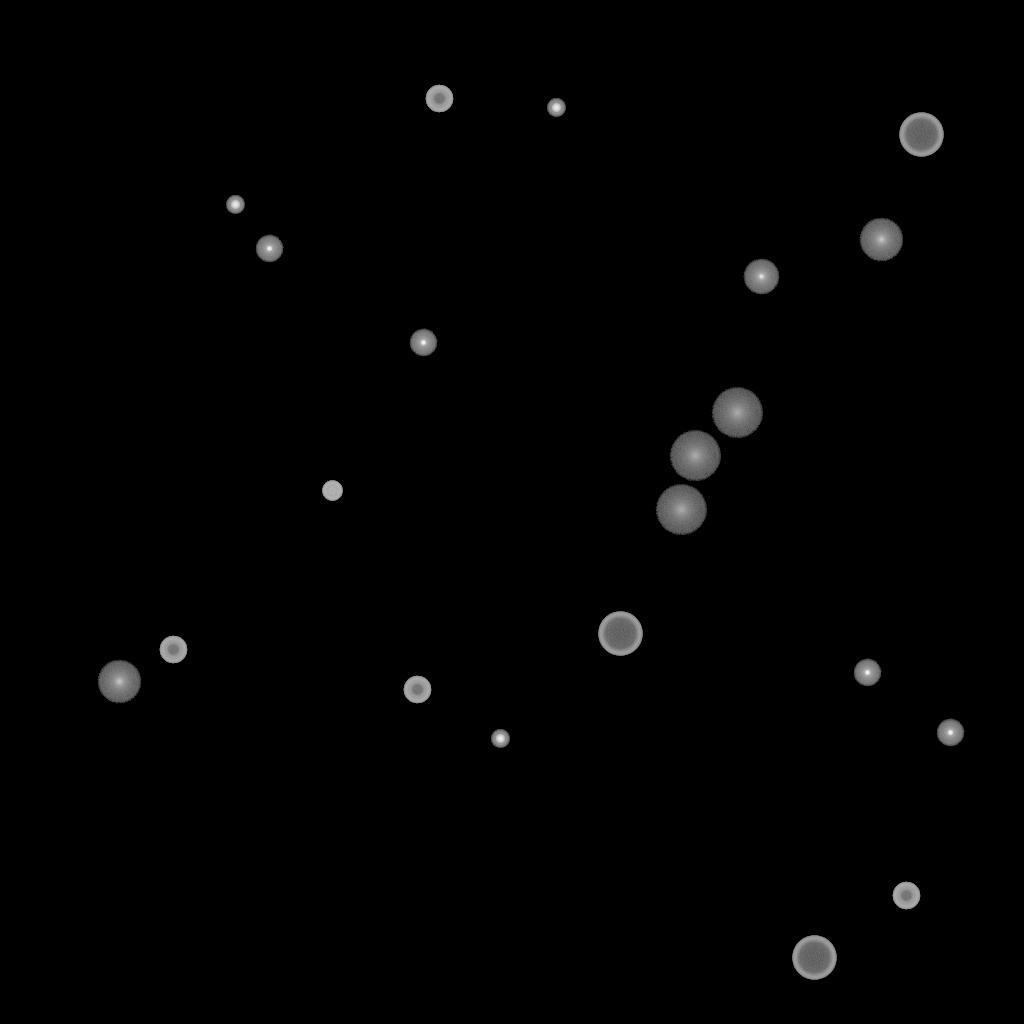depth:-10: (853, 659, 881, 687), (409, 329, 437, 357), (936, 719, 964, 747), (255, 235, 283, 263)
depth:-20: (547, 99, 565, 117), (226, 196, 244, 214), (491, 730, 509, 748)
depth:-40: (322, 481, 342, 501)
depth:-50: (425, 85, 453, 113), (159, 636, 187, 664), (403, 676, 431, 704), (892, 882, 920, 910)
depth:-70: (792, 936, 836, 980), (899, 113, 943, 157), (598, 612, 642, 656)
depth:0: (743, 259, 779, 295)
depth:10: (97, 660, 141, 704), (859, 218, 903, 262)
depth:20: (655, 485, 707, 535), (711, 388, 763, 438), (669, 431, 721, 481)
